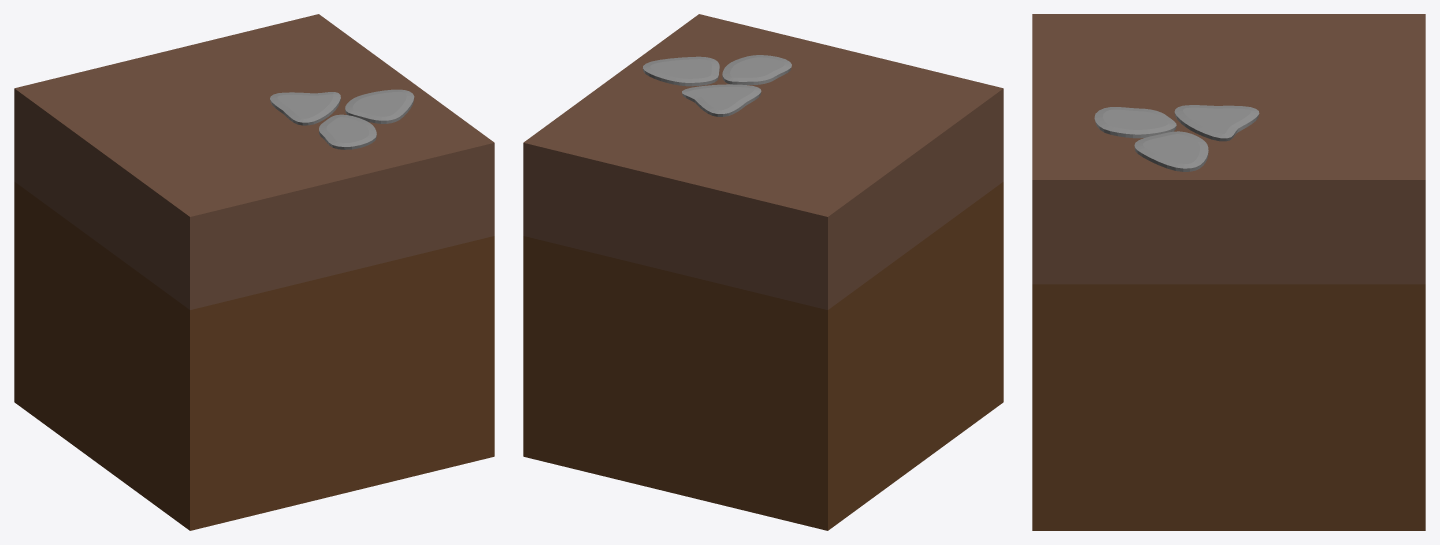
File: Ground 2.fbx
3 renders of one model, left to right at view 1: azimuth 30°, elevation 25°; view 2: azimuth 150°, elevation 25°; view 3: azimuth 270°, elevation 25°, orthographic. The views are drawn at different scales.
Visible parts, largest first — view 1: Ground 2; view 2: Ground 2; view 3: Ground 2.
Boxes of the visible parts, x1,y1,x2,y2 form: Ground 2: (14, 14, 494, 530); Ground 2: (523, 14, 1003, 530); Ground 2: (1032, 14, 1425, 530).
Bounding box in the file's own units: 200 × 200 × 200.
